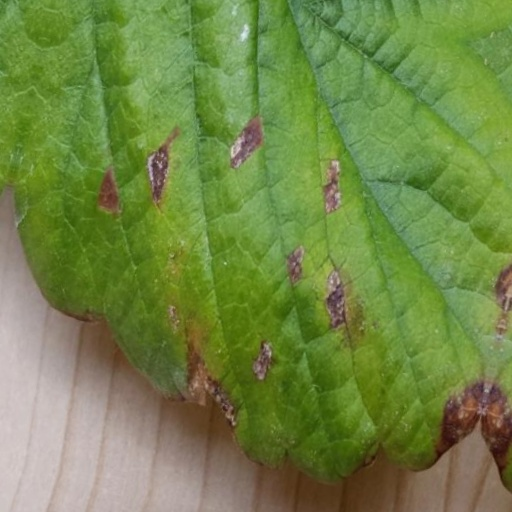Angular Leafspot: (71, 51, 511, 511)
